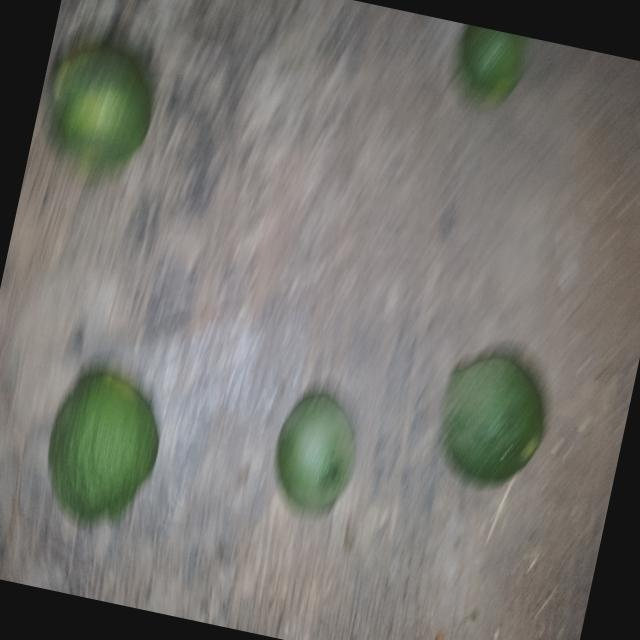agrume: (416, 323, 576, 520), (26, 344, 182, 540), (33, 23, 172, 204), (261, 371, 387, 540)
